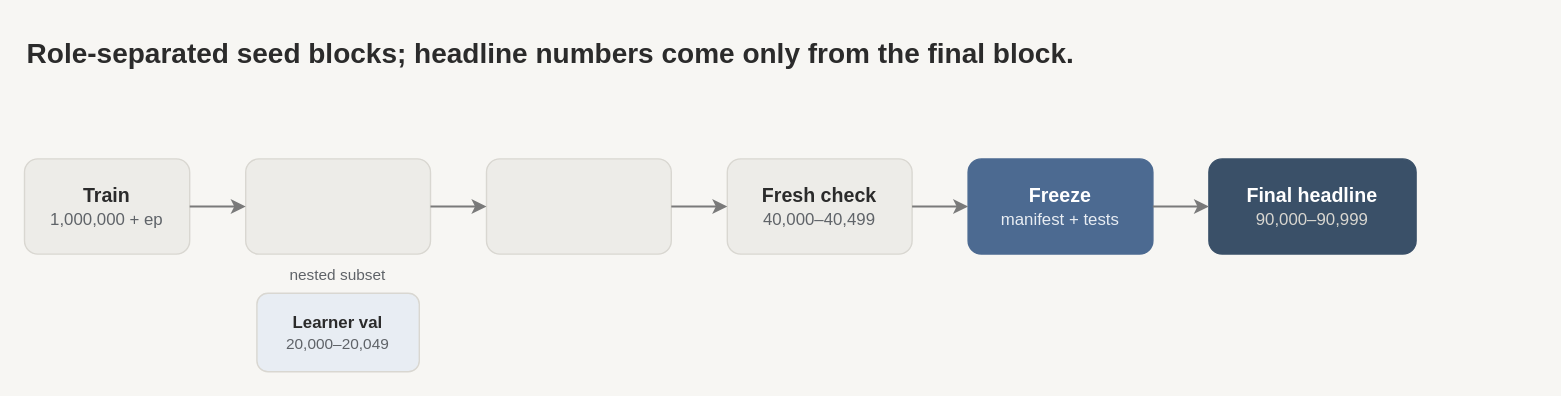
This 1561x396 diagram has some shape labels left out. Each missing label, with the centre of its shape:
"Baseline val 20,000–20,199" belongs at (x=337, y=206).
"Development 30,000–30,499" belongs at (x=578, y=206).
